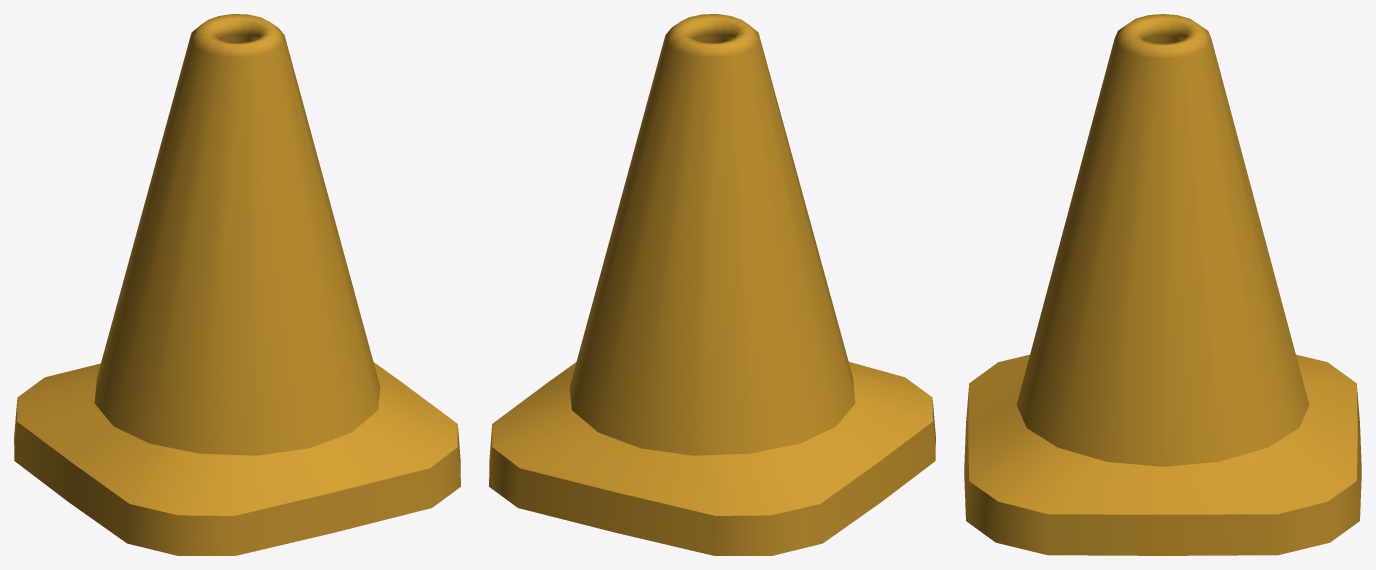
The picture shows the model from 3 angles, left to right: view 1: azimuth 30°, elevation 25°; view 2: azimuth 150°, elevation 25°; view 3: azimuth 270°, elevation 25°; orthographic projection. The views are drawn at different scales.
Parts seen in each view (by area): view 1: trafficCone; view 2: trafficCone; view 3: trafficCone.
Part boxes in pixels (x1=…): trafficCone: x1=14, y1=14, x2=460, y2=555; trafficCone: x1=489, y1=14, x2=935, y2=555; trafficCone: x1=964, y1=14, x2=1361, y2=555.
Bounding box in the file's own units: 1.05 × 1.29 × 1.05.
